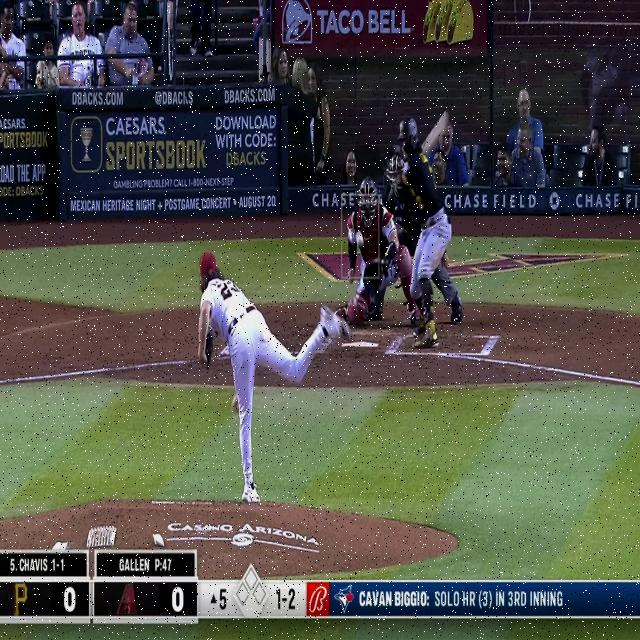baseball: (356, 230, 364, 247)
